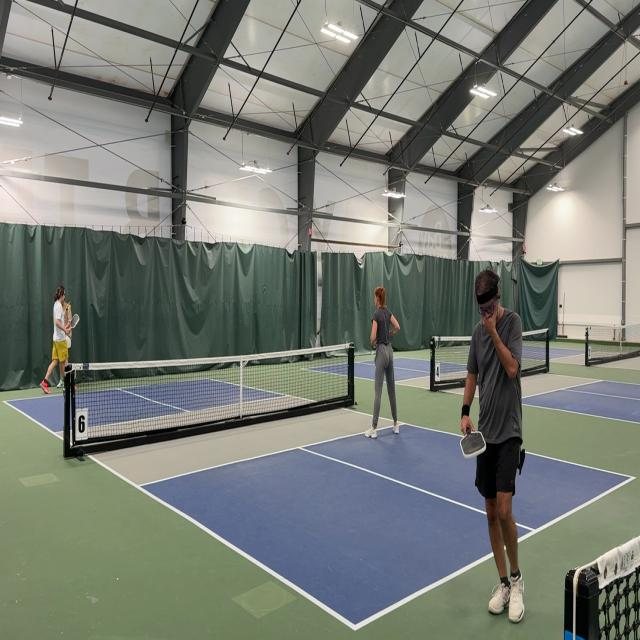ball: (66, 303, 72, 311)
